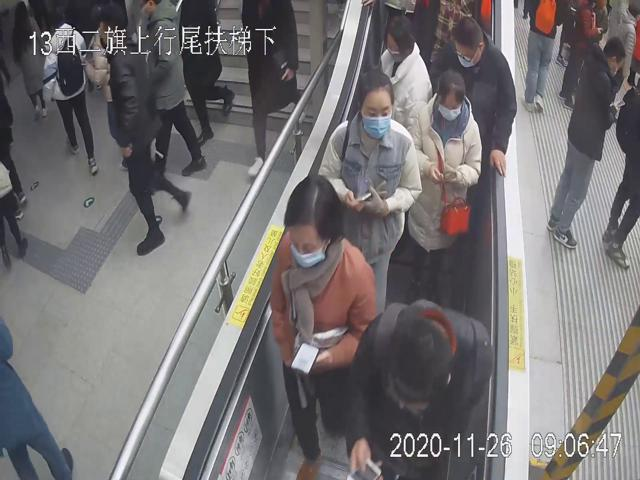person: (269, 173, 377, 477), (342, 294, 495, 478), (314, 66, 422, 320), (92, 0, 193, 256), (401, 65, 482, 301), (545, 32, 626, 251), (428, 15, 517, 177), (376, 14, 432, 132)
